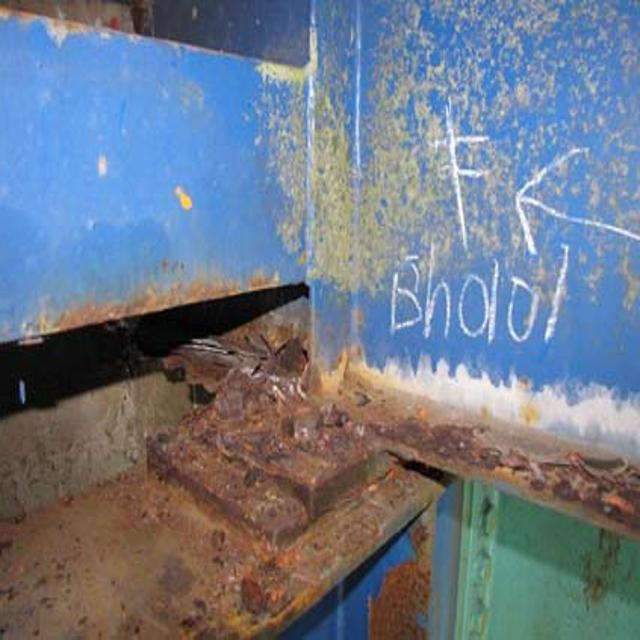corrosion: (1, 328, 621, 640)
